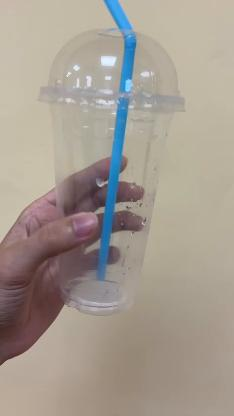Plastic Cup: (40, 29, 186, 318)
